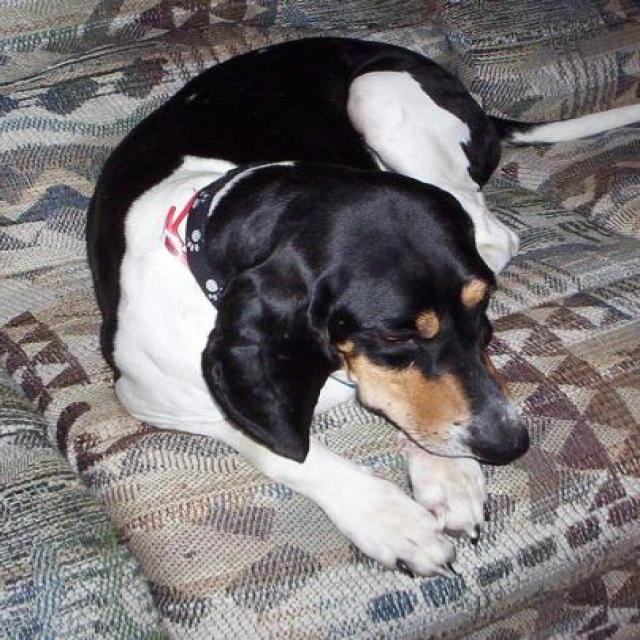Dogs: (82, 34, 638, 578)
